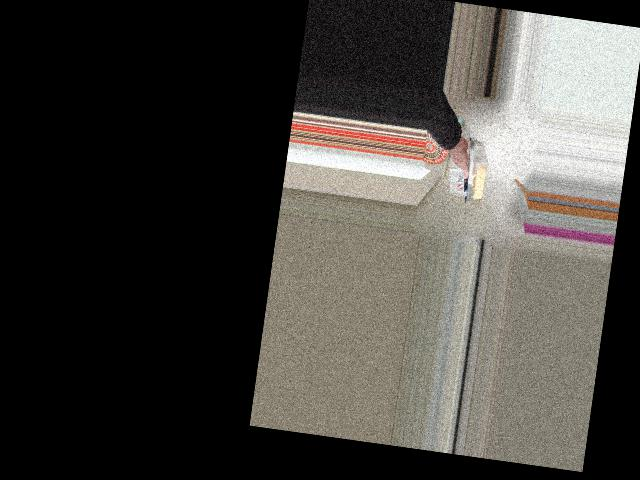cheese: (432, 122, 508, 200)
